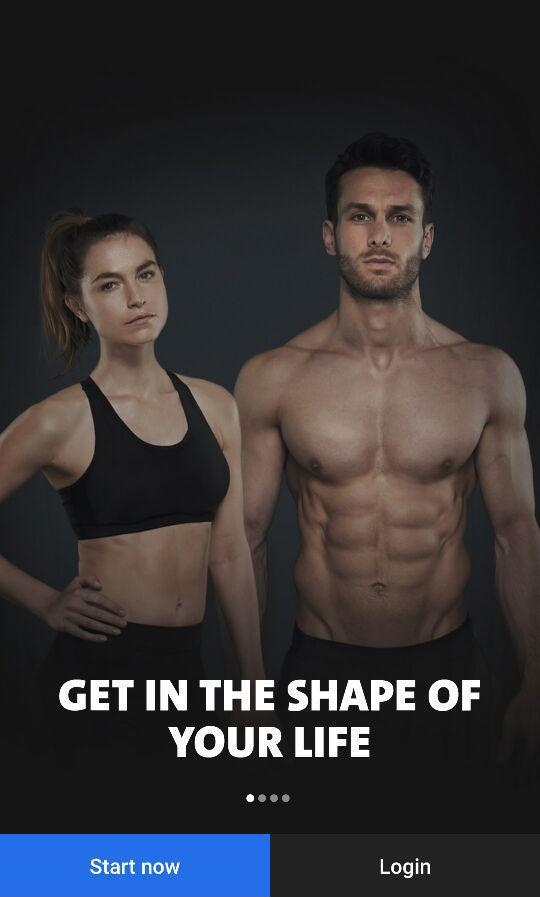BackgroundImage: (1, 1, 540, 834)
PageIndicator: (246, 793, 292, 803)
Text: (59, 678, 481, 758)
TextButton: (1, 834, 270, 897), (271, 834, 540, 897)
